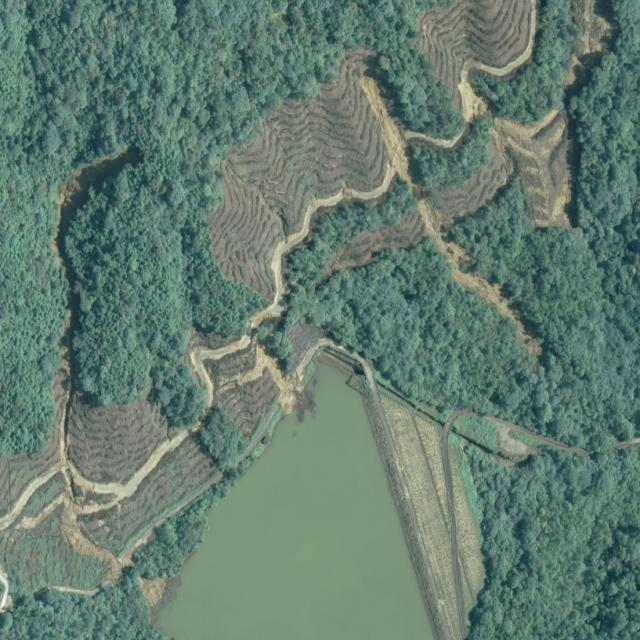landslide: (360, 74, 413, 184), (61, 509, 114, 561), (137, 577, 168, 611), (117, 540, 143, 567), (48, 586, 100, 596), (17, 518, 38, 527)
